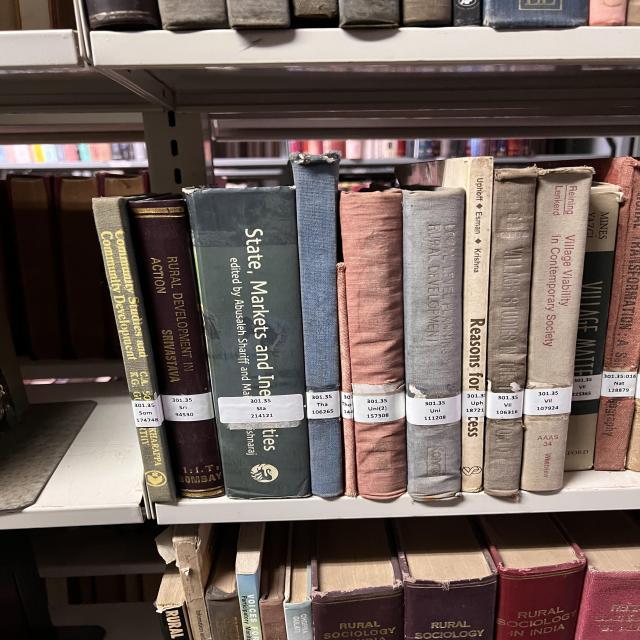Book: (185, 186, 312, 499), (395, 156, 493, 492), (130, 196, 225, 499), (92, 196, 175, 502), (522, 166, 593, 491), (340, 189, 407, 500), (402, 188, 465, 500), (290, 151, 343, 498), (483, 168, 538, 496), (565, 182, 622, 470), (593, 158, 640, 471), (478, 514, 587, 640), (395, 516, 497, 640), (312, 519, 403, 640), (555, 511, 640, 640), (160, 524, 215, 640), (337, 262, 358, 498), (205, 524, 243, 640), (235, 522, 265, 640), (258, 522, 288, 640), (483, 0, 590, 29), (153, 564, 192, 640), (85, 0, 162, 31), (158, 0, 228, 30), (227, 0, 290, 29), (338, 0, 400, 29), (403, 0, 452, 26), (283, 599, 313, 640), (18, 0, 52, 30), (588, 0, 627, 26), (292, 0, 338, 19), (453, 0, 482, 26), (627, 0, 640, 26)
Label: (217, 394, 303, 424), (405, 395, 462, 425), (353, 391, 405, 422), (162, 392, 215, 421), (523, 386, 572, 415), (132, 395, 163, 428), (487, 391, 523, 419), (600, 371, 637, 398), (307, 390, 340, 419), (572, 374, 602, 401), (462, 391, 485, 418), (340, 391, 353, 419)
